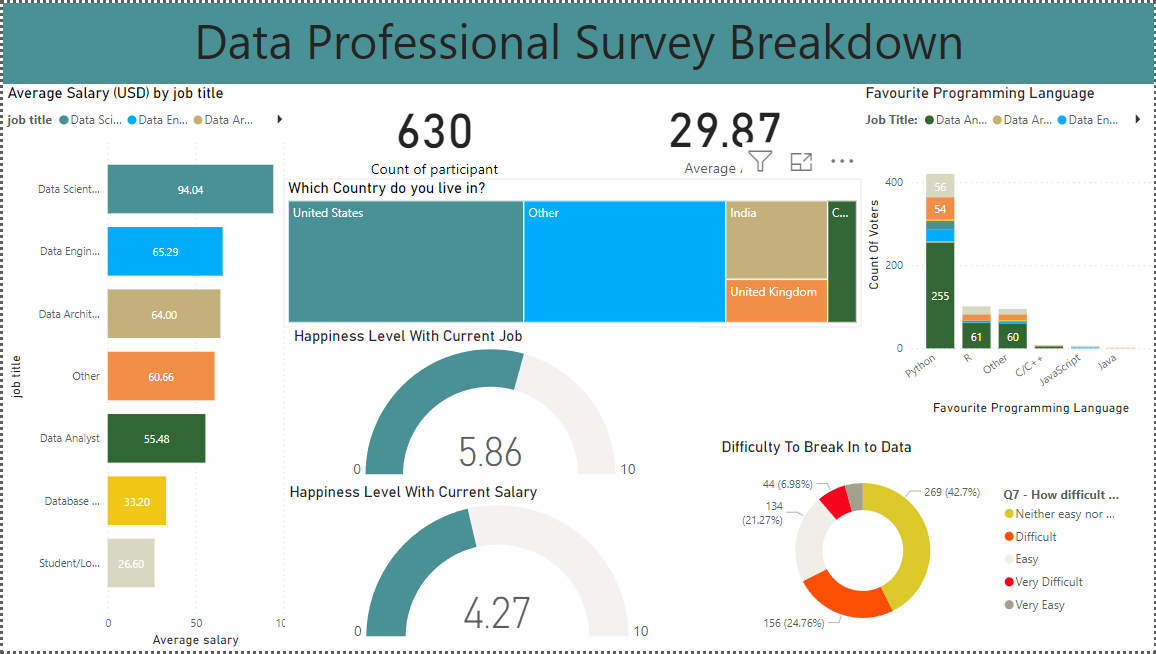

This screenshot's page, from the dashboard's own definition file:
{"tool":"powerbi","page":{"name":"Page 1","canvas":[1280,720],"ordinal":0},"visuals":[{"type":"textbox","box":[0,0,1280,90],"z":1000},{"type":"card","fields":{"Values":["CountNonNull(Data Professional Survey.Unique ID)"]},"box":[318.3,91.7,321.7,106.7],"z":2000},{"type":"card","fields":{"Values":["Avg(Data Professional Survey.Q10 - Current Age)"]},"box":[633.3,90,336.7,108.3],"z":3000},{"type":"barChart","title":"Average Salary (USD) by job title","fields":{"Y":["Avg(Data Professional Survey.Average Salary (USD))"],"Category":["Data Professional Survey.Q1 - Which Title Best Fits your Current Role?.1"],"Series":["Data Professional Survey.Q1 - Which Title Best Fits your Current Role?.1"]},"box":[0,90,326.7,630],"z":4000},{"type":"columnChart","title":"Favourite Programming Language","fields":{"Category":["Data Professional Survey.Q5 - Favorite Programming Language.1"],"Y":["CountNonNull(Data Professional Survey.Unique ID)"],"Series":["Data Professional Survey.Q1 - Which Title Best Fits your Current Role?.1"]},"box":[953.3,90,326.7,371.7],"z":5000},{"type":"treemap","title":"Which Country do you live in?","fields":{"Group":["Data Professional Survey.Q11 - Which Country do you live in?.1"],"Values":["CountNonNull(Data Professional Survey.Q11 - Which Country do you live in?.1)"]},"box":[311.7,195,641.7,165],"z":6000},{"type":"gauge","title":"Happiness Level With Current Job","fields":{"Y":["Avg(Data Professional Survey.Q6 - How Happy are you in your Current Position with the following? (Coworkers))"],"MinValue":["Min(Data Professional Survey.Q6 - How Happy are you in your Current Position with the following? (Coworkers))1"],"MaxValue":["Max(Data Professional Survey.Q6 - How Happy are you in your Current Position with the following? (Coworkers))2"]},"box":[318.3,360,455,173.3],"z":7000},{"type":"gauge","title":"Happiness Level With Current Salary","fields":{"Y":["Avg(Data Professional Survey.Q6 - How Happy are you in your Current Position with the following? (Salary))"],"MinValue":["Min(Data Professional Survey.Q6 - How Happy are you in your Current Position with the following? (Salary))"],"MaxValue":["Max(Data Professional Survey.Q6 - How Happy are you in your Current Position with the following? (Salary))"]},"box":[313.3,533.3,480,180],"z":8000},{"type":"donutChart","title":"Difficulty To Break In to Data","fields":{"Category":["Data Professional Survey.Q7 - How difficult was it for you to break into Data?"],"Y":["CountNonNull(Data Professional Survey.Q7 - How difficult was it for you to break into Data?)"]},"box":[793.3,483.3,458.3,230],"z":9000}]}

Visuals, with their boxes in screenshot pixels (x1, y1, x2, y2), scaled from the page's 1280x720 canvas onto the 1156x654 screenshot:
textbox: locate(0, 0, 1155, 82)
card - CountNonNull(Data Professional Survey.Unique ID): locate(287, 83, 578, 180)
card - Avg(Data Professional Survey.Q10 - Current Age): locate(572, 82, 876, 180)
"Average Salary (USD) by job title" barChart: locate(0, 82, 295, 653)
"Favourite Programming Language" columnChart: locate(861, 82, 1155, 419)
"Which Country do you live in?" treemap: locate(282, 177, 861, 327)
"Happiness Level With Current Job" gauge: locate(287, 327, 698, 484)
"Happiness Level With Current Salary" gauge: locate(283, 484, 716, 648)
"Difficulty To Break In to Data" donutChart: locate(716, 439, 1130, 648)
